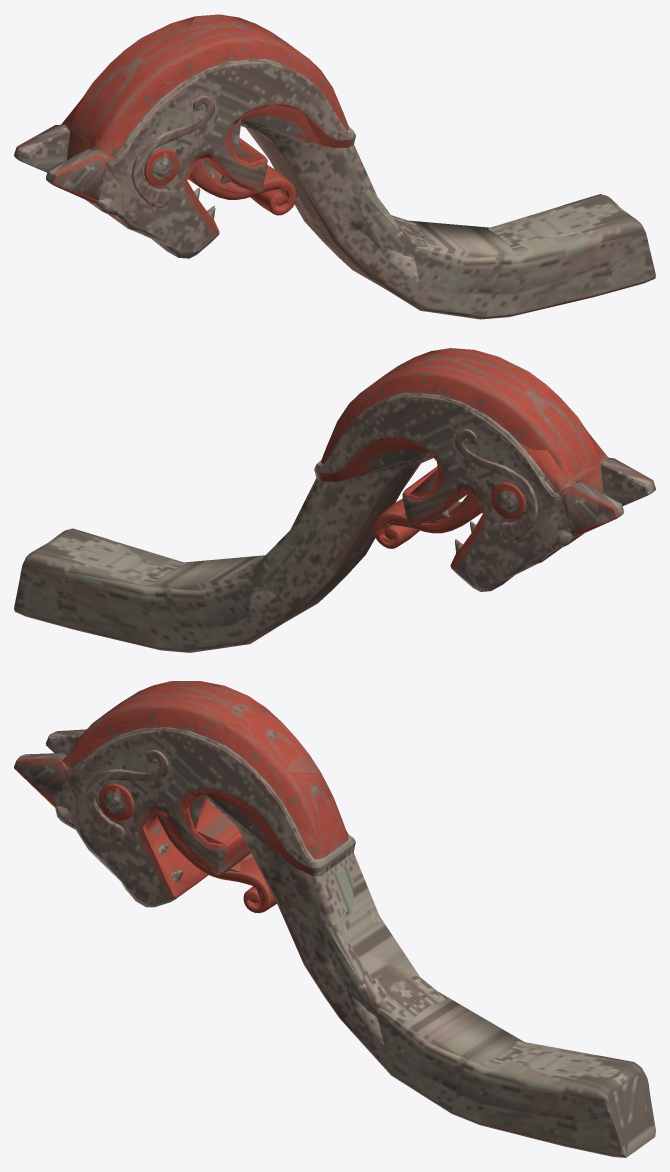
Rendered from build_dragonhead_01.glb.
The picture shows the model from 3 angles, top to bottom: view 1: azimuth 30°, elevation 25°; view 2: azimuth 150°, elevation 25°; view 3: azimuth 330°, elevation 25°; orthographic projection.
Visible parts, largest first — view 1: build_bighouse_01_dragonhead_01_LOD0; view 2: build_bighouse_01_dragonhead_01_LOD0; view 3: build_bighouse_01_dragonhead_01_LOD0.
Part boxes in pixels (x1,y1,x2,y2): build_bighouse_01_dragonhead_01_LOD0: [14, 14, 655, 319]; build_bighouse_01_dragonhead_01_LOD0: [14, 348, 655, 652]; build_bighouse_01_dragonhead_01_LOD0: [14, 681, 655, 1157].
Size of the model in its own units: 3.38 by 1.86 by 0.4757.
Materials: 1 (1 with a texture image).
